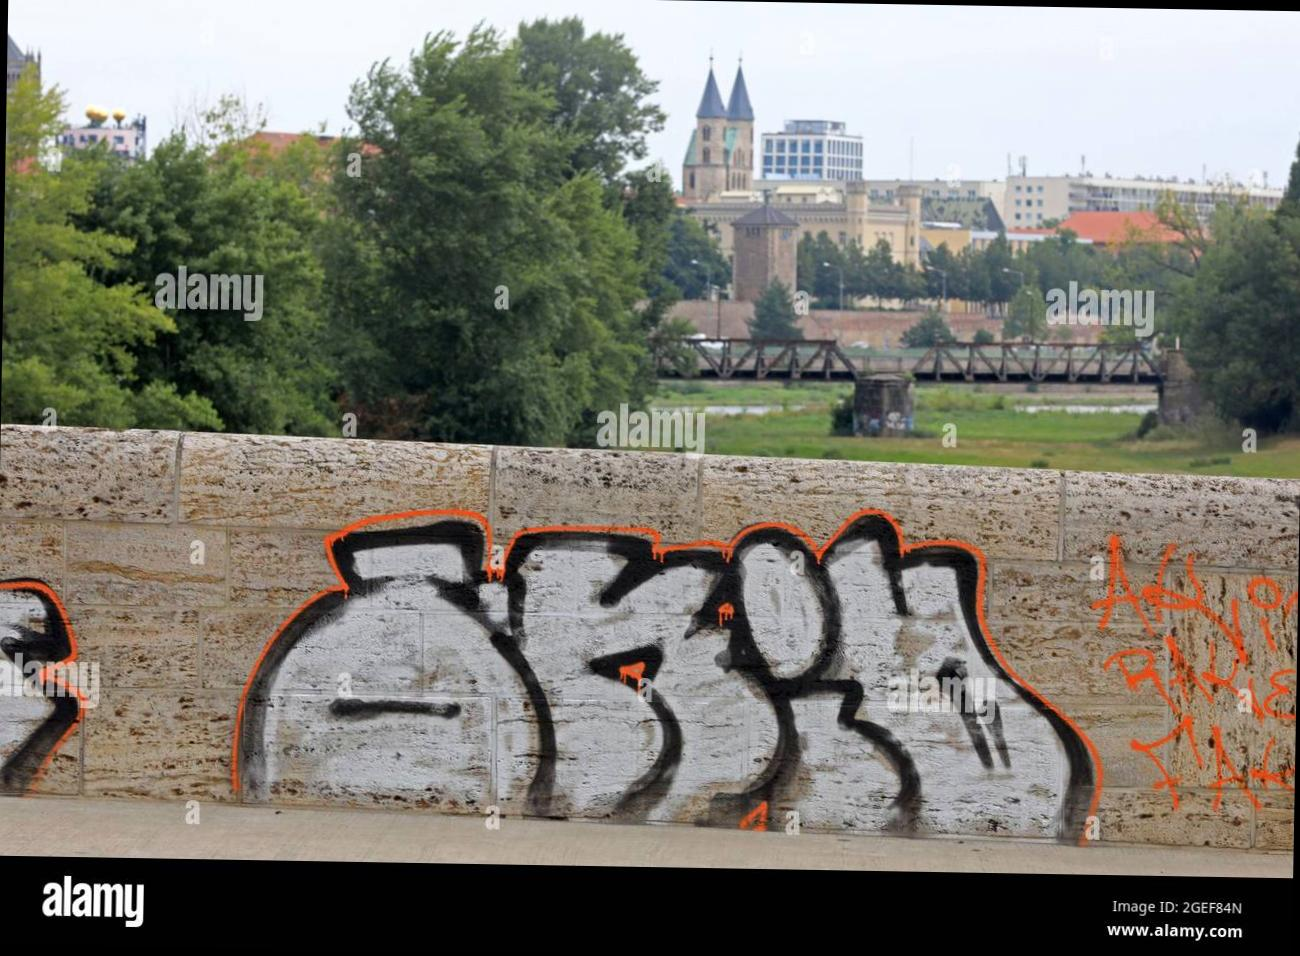graffiti: (235, 513, 1089, 837), (1086, 558, 1294, 813), (0, 585, 71, 793)
